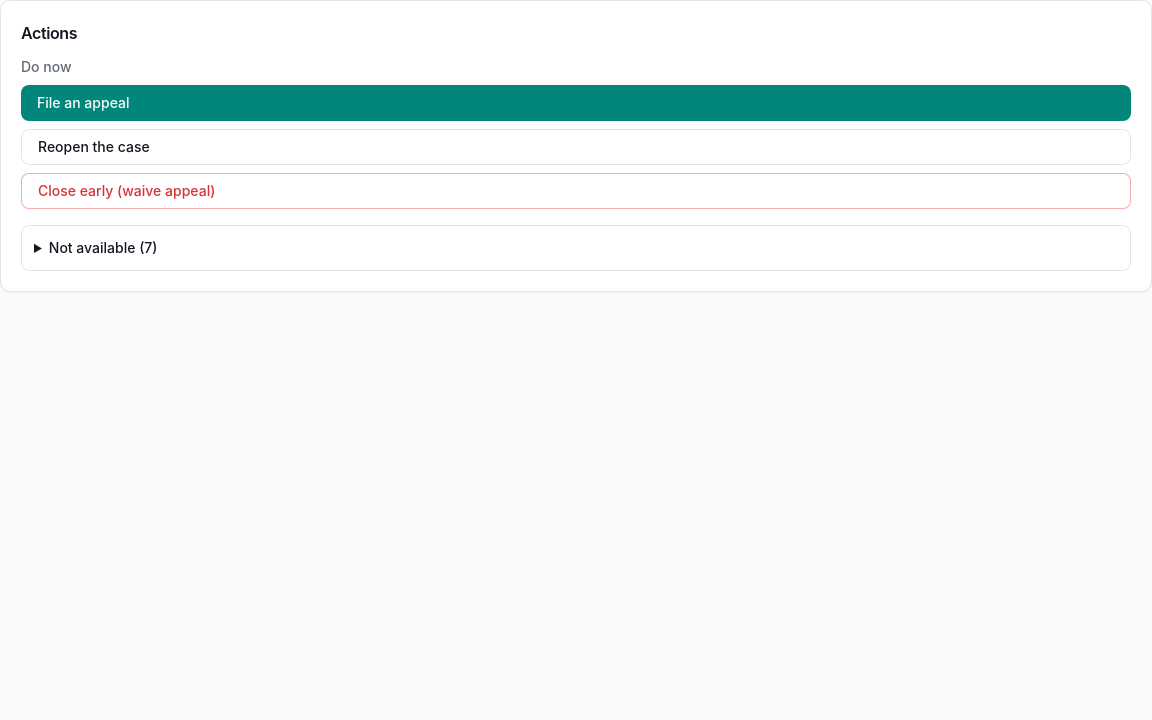
Scenario: ActionList › puts allowed actions under Do now and explains blocked ones in a collapsed group
The width and height of the screenshot is (1152, 720).
Expected: the button "Close the case" is not shown
Expected: the heading "Do now" is shown, [21, 58, 72, 75]
Click the heading "Not available (7)" at (103, 248), box [49, 239, 158, 256]
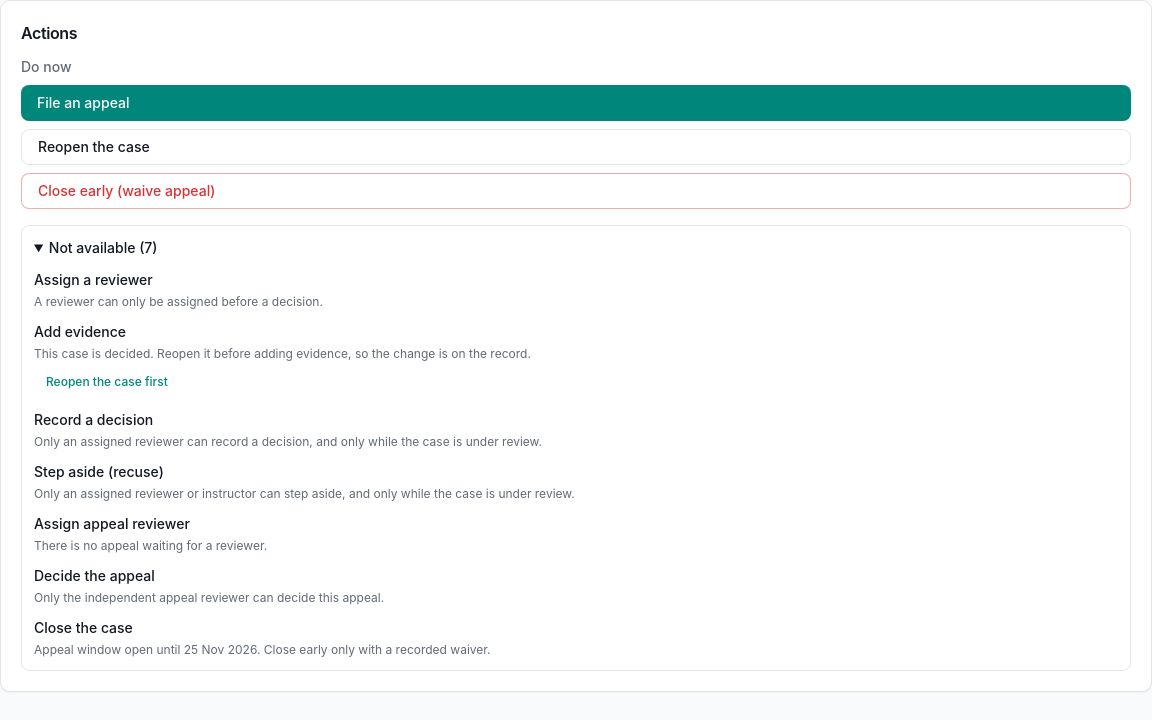
Result: the text "Appeal window open until 25 Nov 2026" is shown at [34, 642, 490, 657]
